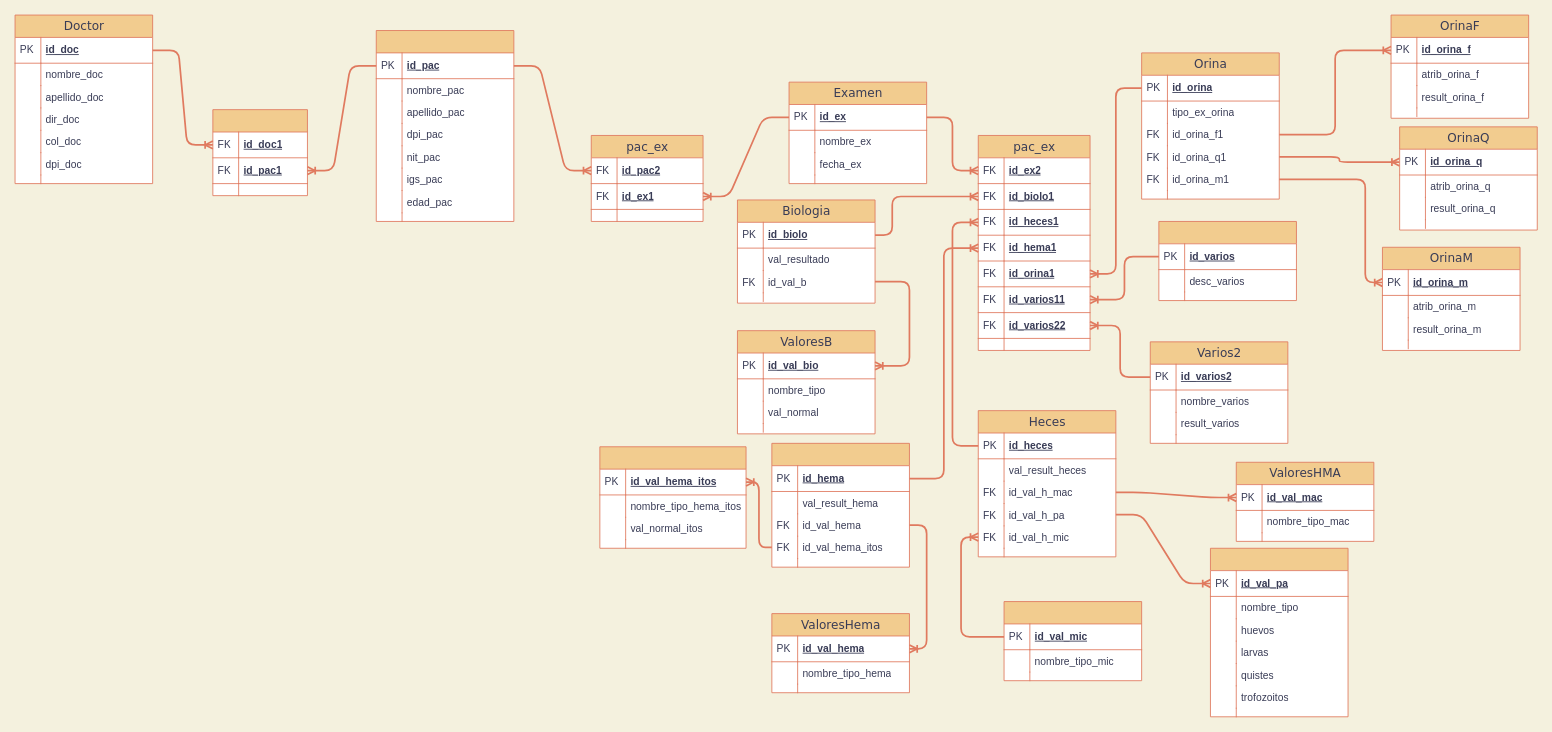
The diagram is 1552 pixels wide and 732 high, and some of its shapes have lost their labels. The box of each missing label's shape, as (x1, y1, x2, y2) in pixels:
doc_pac: (212, 109, 307, 196)
Hematologia: (771, 442, 909, 567)
Paciente: (375, 30, 514, 221)
ValoresHemaItos: (599, 446, 746, 548)
ValoresHMI: (1003, 601, 1142, 681)
ValoresHP: (1210, 547, 1348, 717)
Varios1: (1158, 221, 1296, 301)
